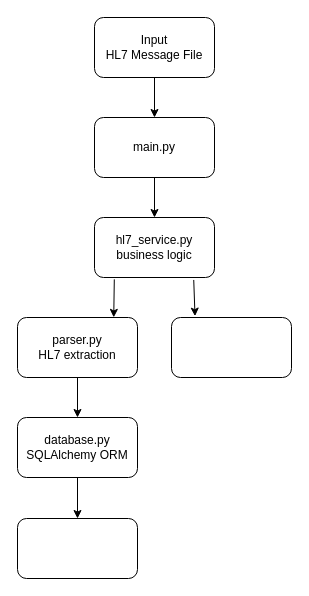
Image size: 309x596. Some labels were removed from this diagram. The centre of each missing label's shape, as x and y in pixels:
"models.py DB entities" belongs at point (231, 347).
"SQLite DB" belongs at point (77, 548).
